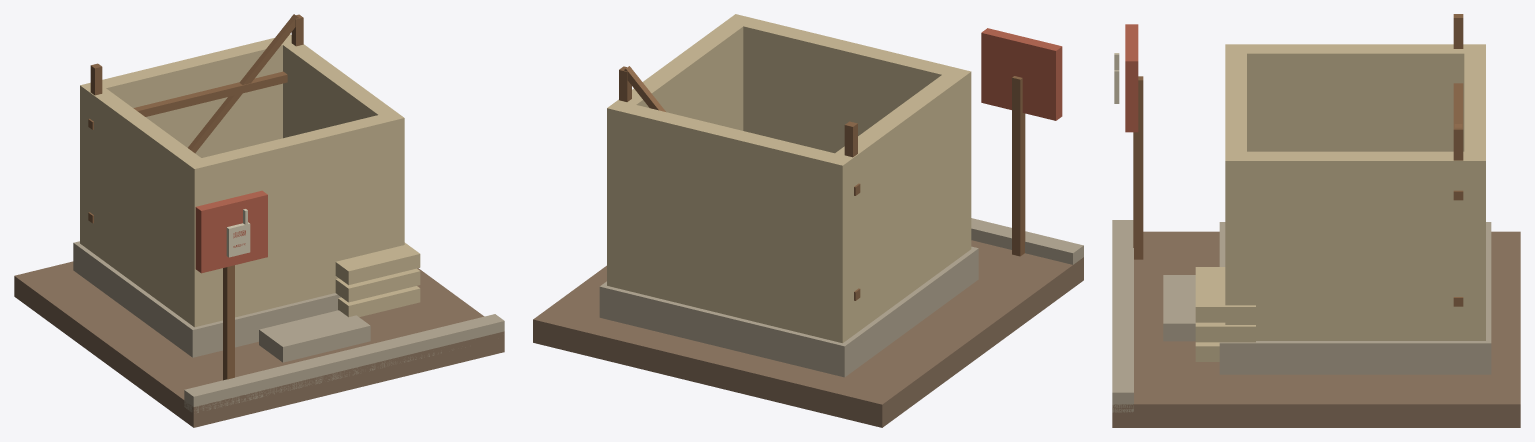
Rendered from police-station-half-built.glb.
3 renders of one model, left to right at view 1: azimuth 30°, elevation 25°; view 2: azimuth 150°, elevation 25°; view 3: azimuth 270°, elevation 25°, orthographic. The views are drawn at different scales.
Parts seen in each view (by area): view 1: police-station; view 2: police-station; view 3: police-station.
Boxes of the visible parts, x1=… form: police-station: x1=14, y1=14, x2=504, y2=427; police-station: x1=533, y1=14, x2=1083, y2=427; police-station: x1=1112, y1=14, x2=1520, y2=427.
Size of the model in its own units: 1.88 by 1.38 by 1.88.
